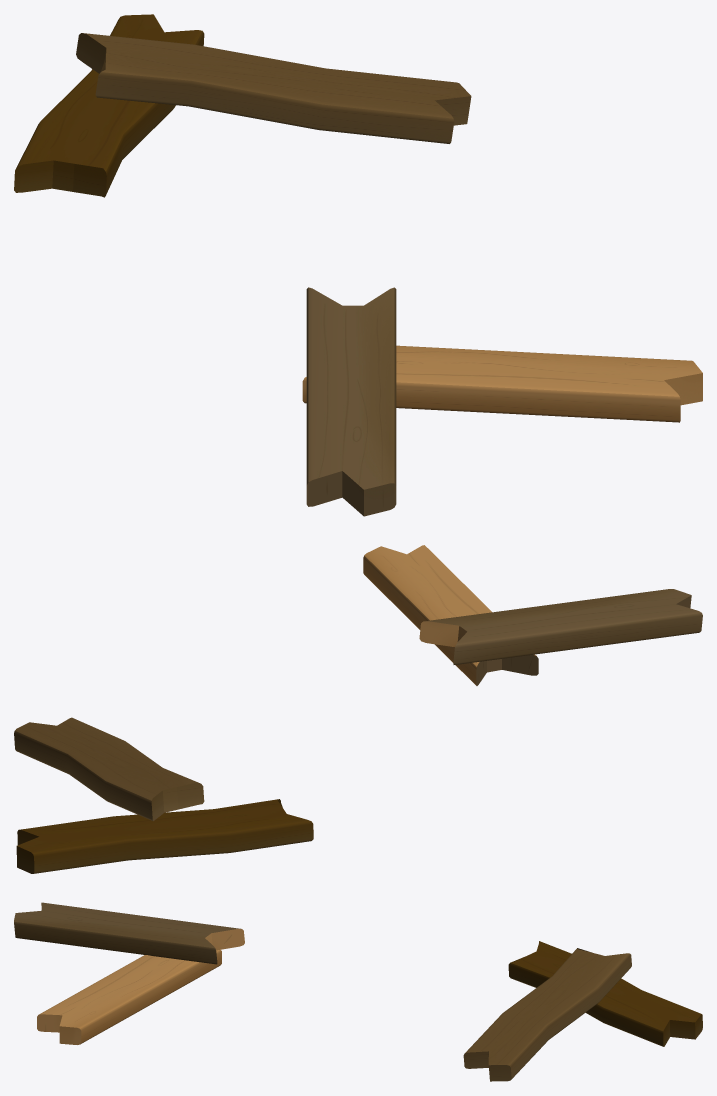
Rendered from Debris [Textured].fbx.
The picture shows the model from 3 angles, top to bottom: view 1: azimuth 30°, elevation 25°; view 2: azimuth 150°, elevation 25°; view 3: azimuth 270°, elevation 25°; orthographic projection. The views are drawn at different scales.
Visible parts, largest first — view 1: pCube95; view 2: pCube95; view 3: pCube95.
Boxes of the visible parts, x1,y1,x2,y2 form: pCube95: (14,14,702,516); pCube95: (14,545,702,873); pCube95: (14,902,702,1081).
Size of the model in its own units: 8.38 by 1.24 by 15.3.
Materials: 1 (1 with a texture image).
